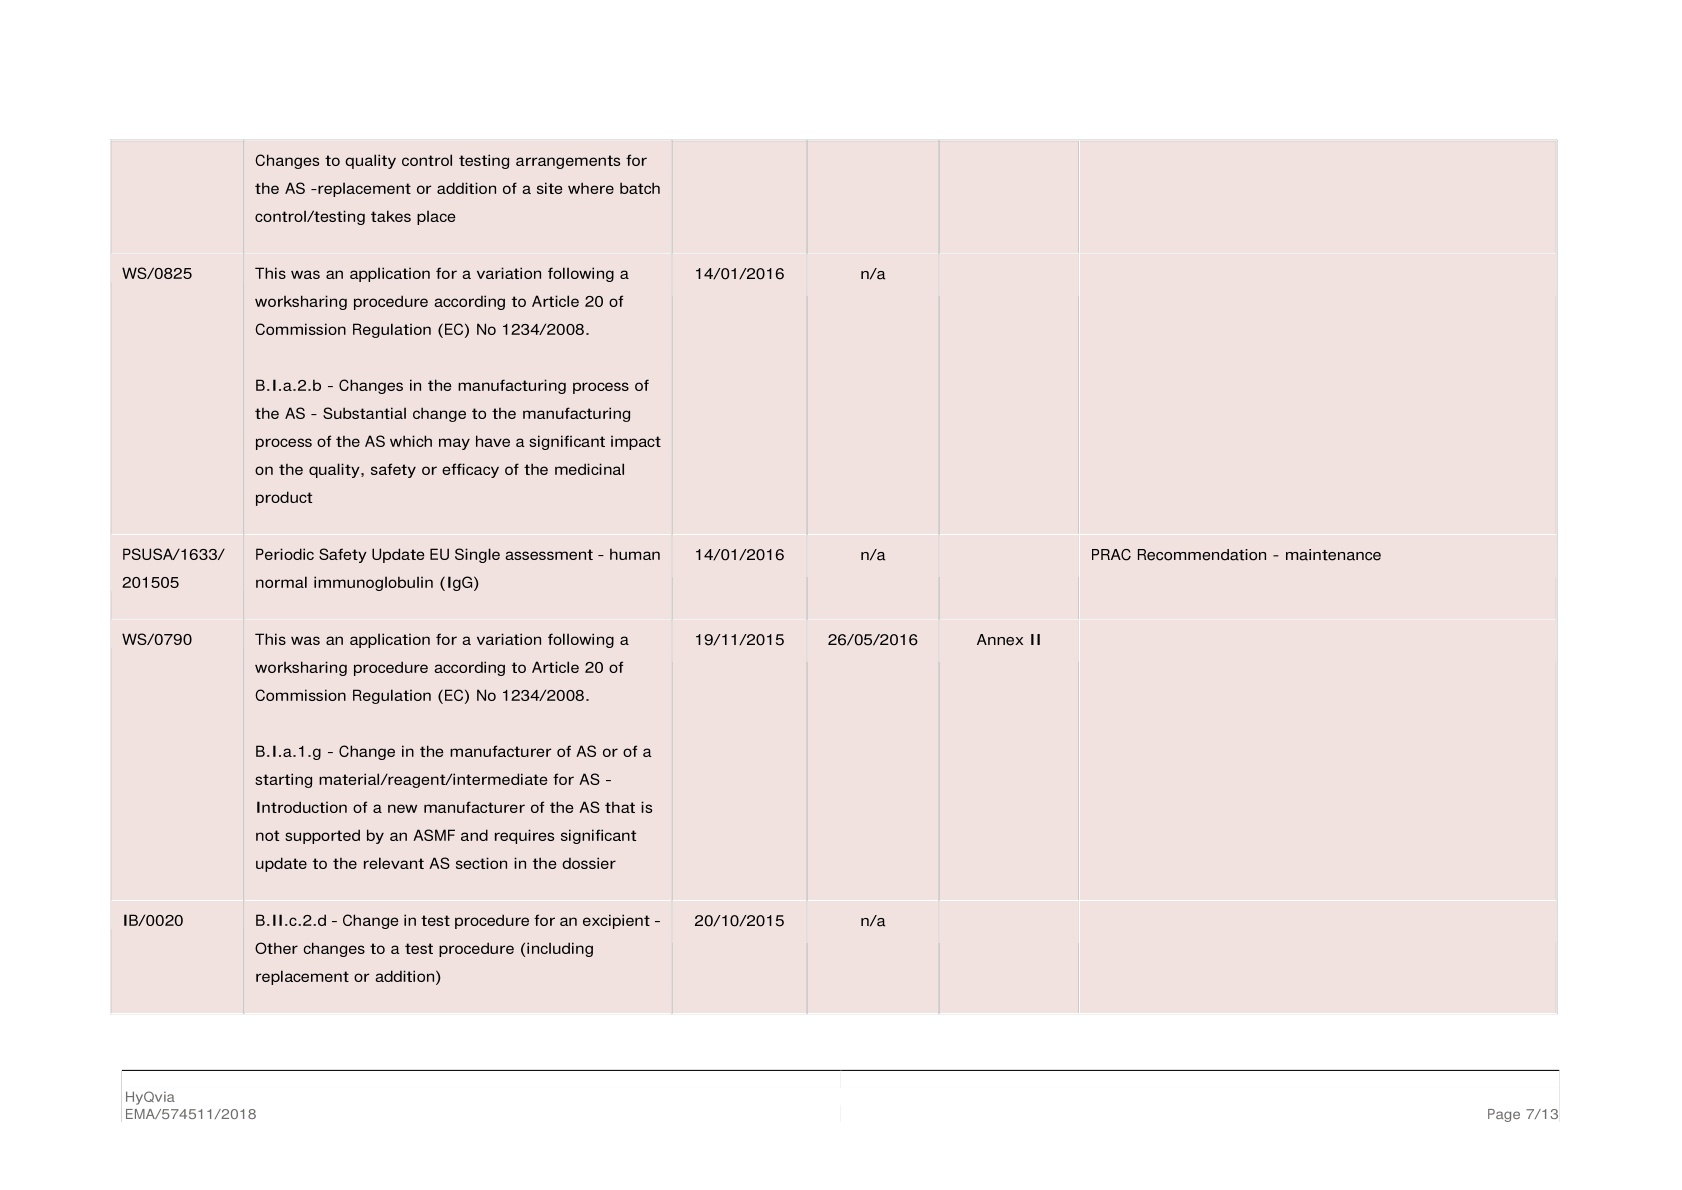full_lined: (108, 138, 1558, 1015)
